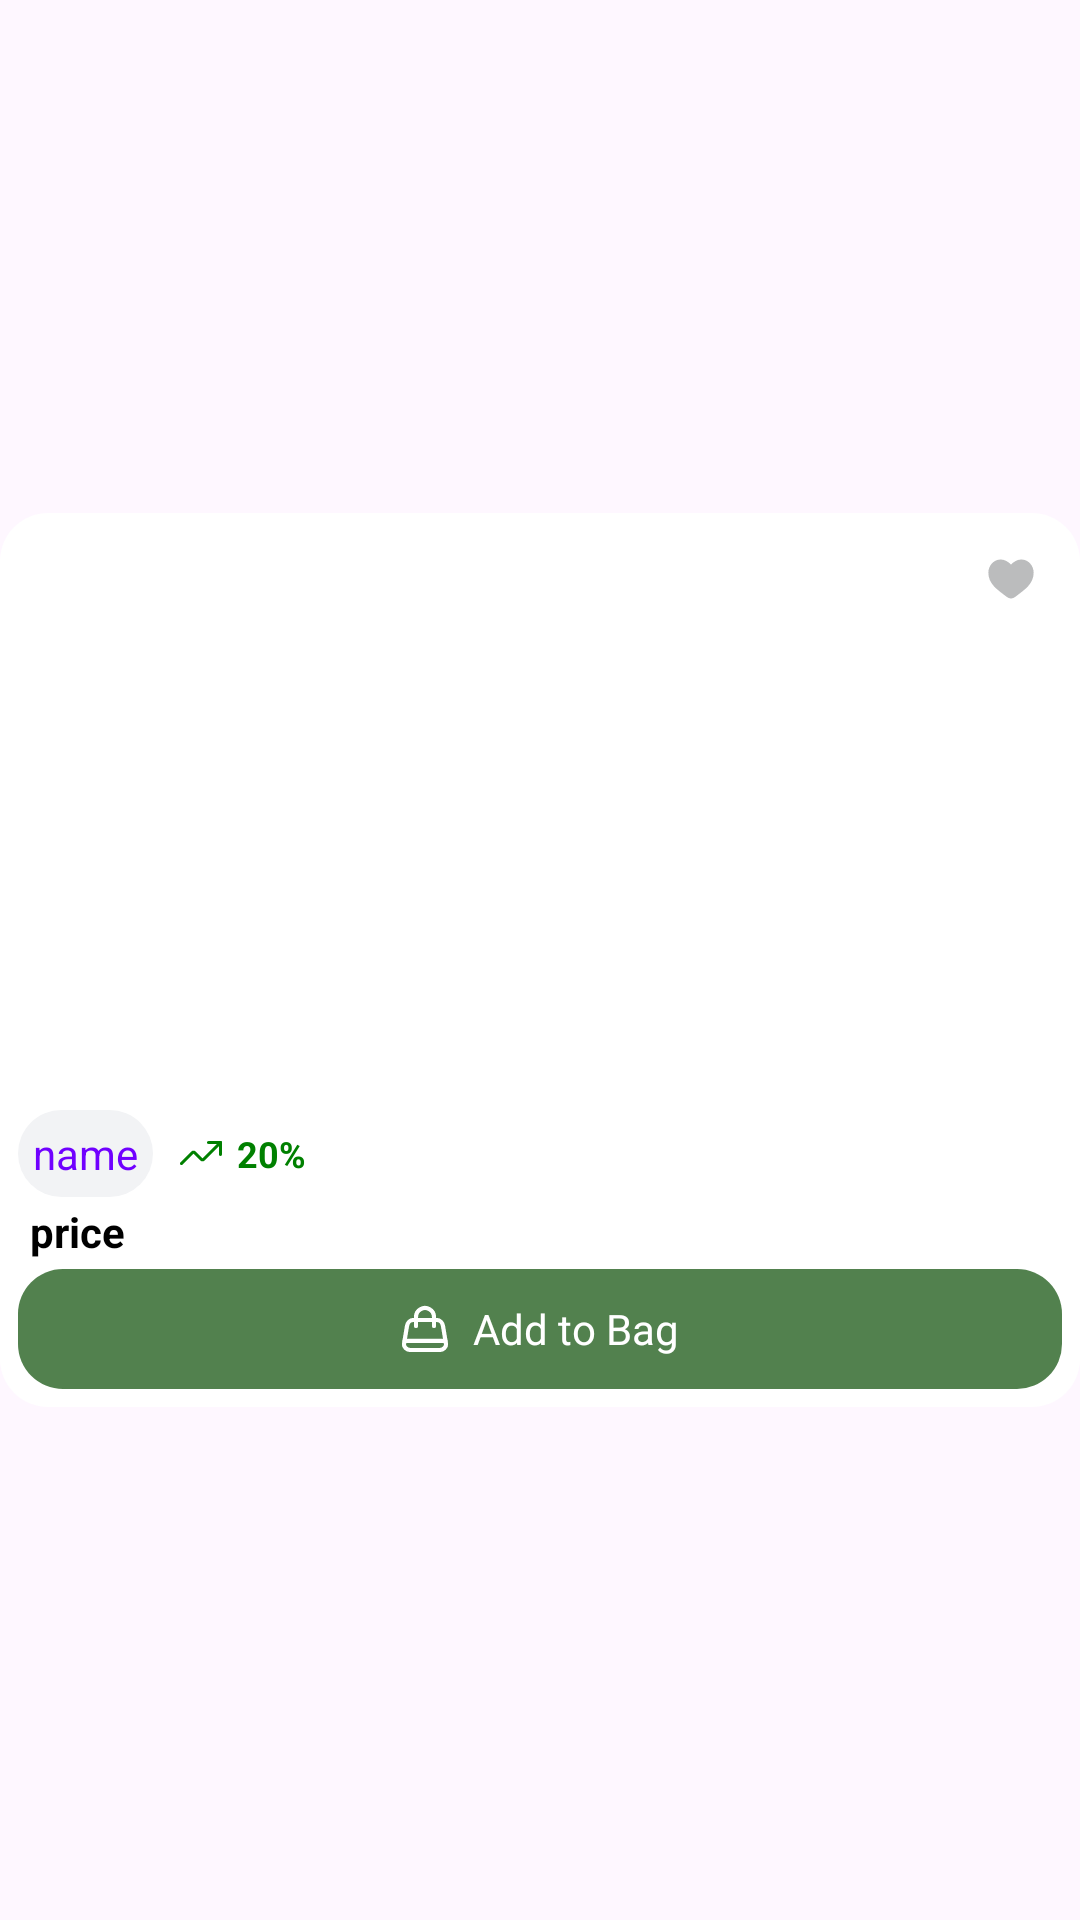

Where icons sit on this 1080px×1920px app screen, as box=[x1, y1, x2, y2]:
galabag: box=[402, 1305, 448, 1352]
heart civ: box=[988, 559, 1034, 599]
up arrow: box=[180, 1141, 222, 1165]
